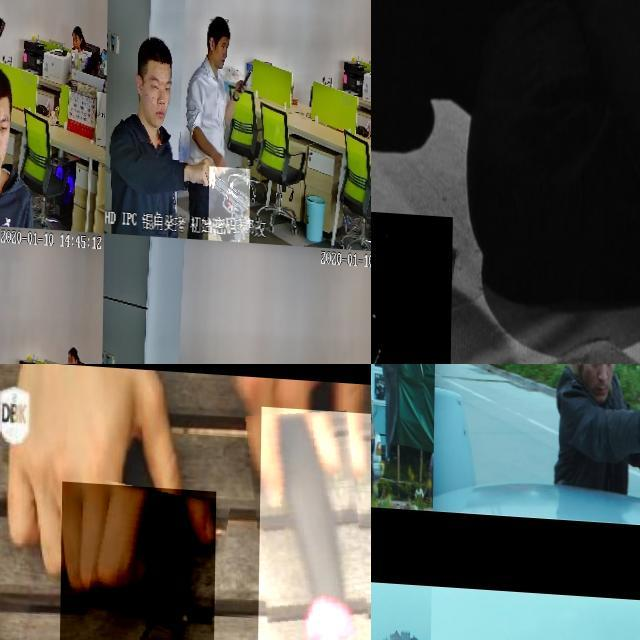-: (255, 402, 371, 640), (57, 480, 216, 640)
gun-knife-thesis - v11 Yolov5 augmented: (371, 200, 478, 364), (209, 160, 251, 237), (0, 0, 25, 45), (371, 375, 377, 389), (371, 617, 374, 631), (546, 637, 552, 640)
